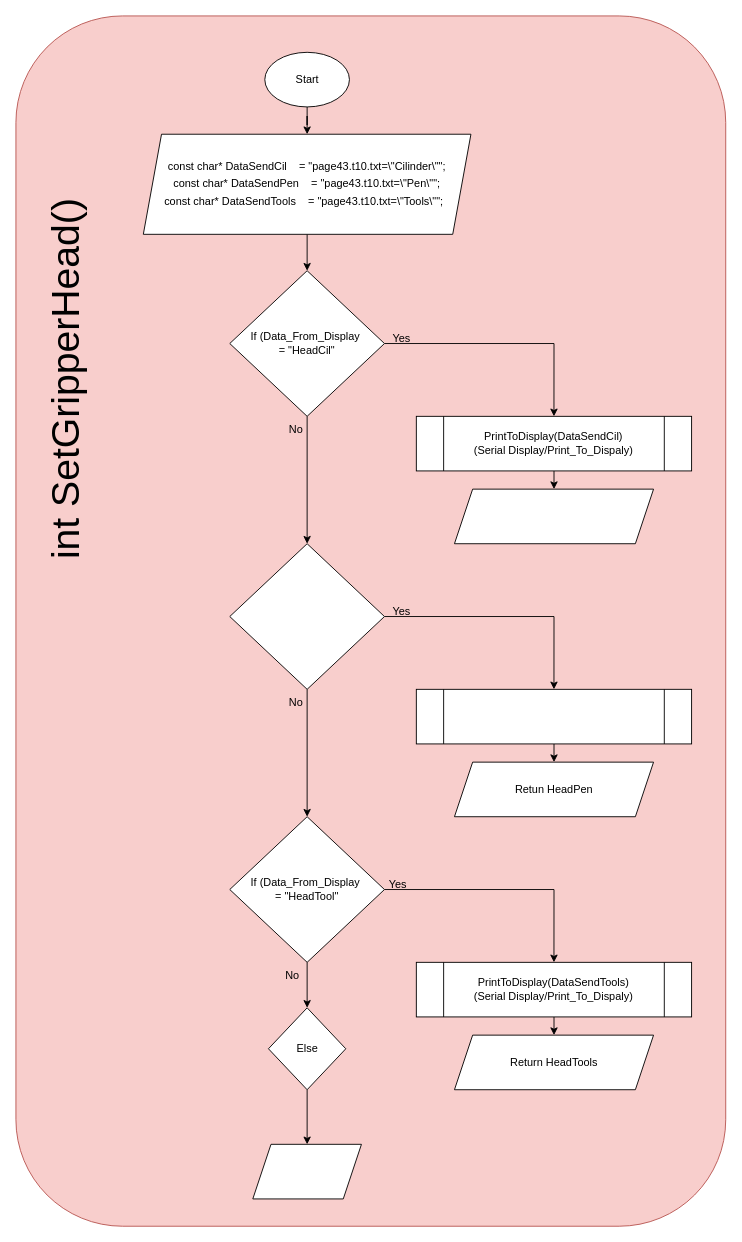
This 742x1242 diagram has some shape labels left out. The shapes that lost their labels are listed below. From the top down, each one's centre as x and y in pixels, then its label:
point 554,516: Return HeadCilinder
point 306,616: If (Data_From_Display = "HeadPen"
point 553,716: PrintToDisplay(DataSendPen ) (Serial Display/Print_To_Dispaly)
point 306,1171: Return 0
